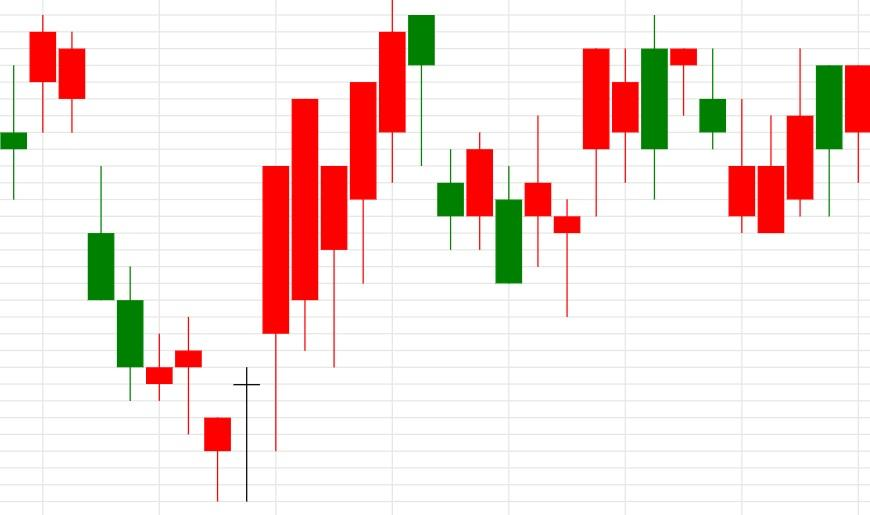hanging_man_fall: (202, 0, 436, 501), (554, 14, 698, 317)
